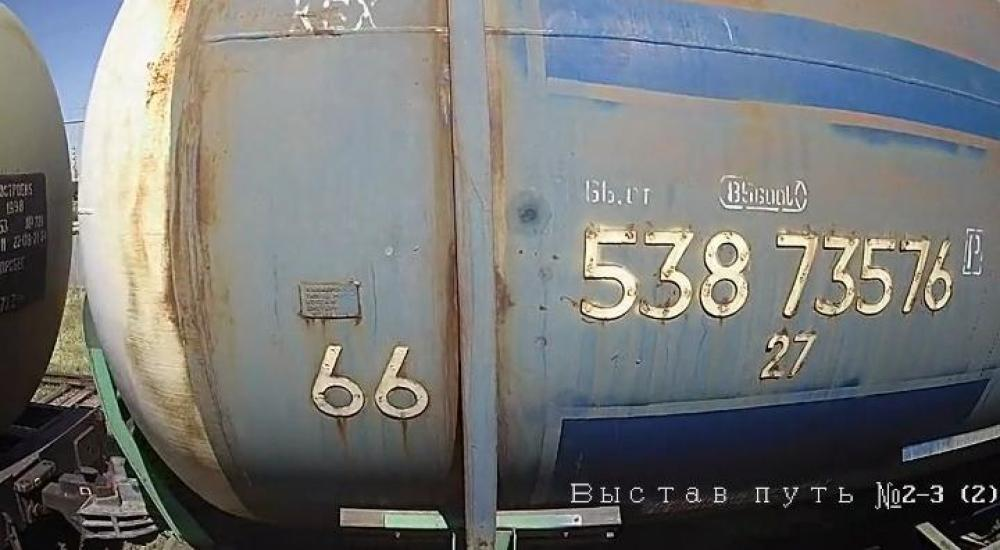Wagon-number: (575, 225, 956, 321)
